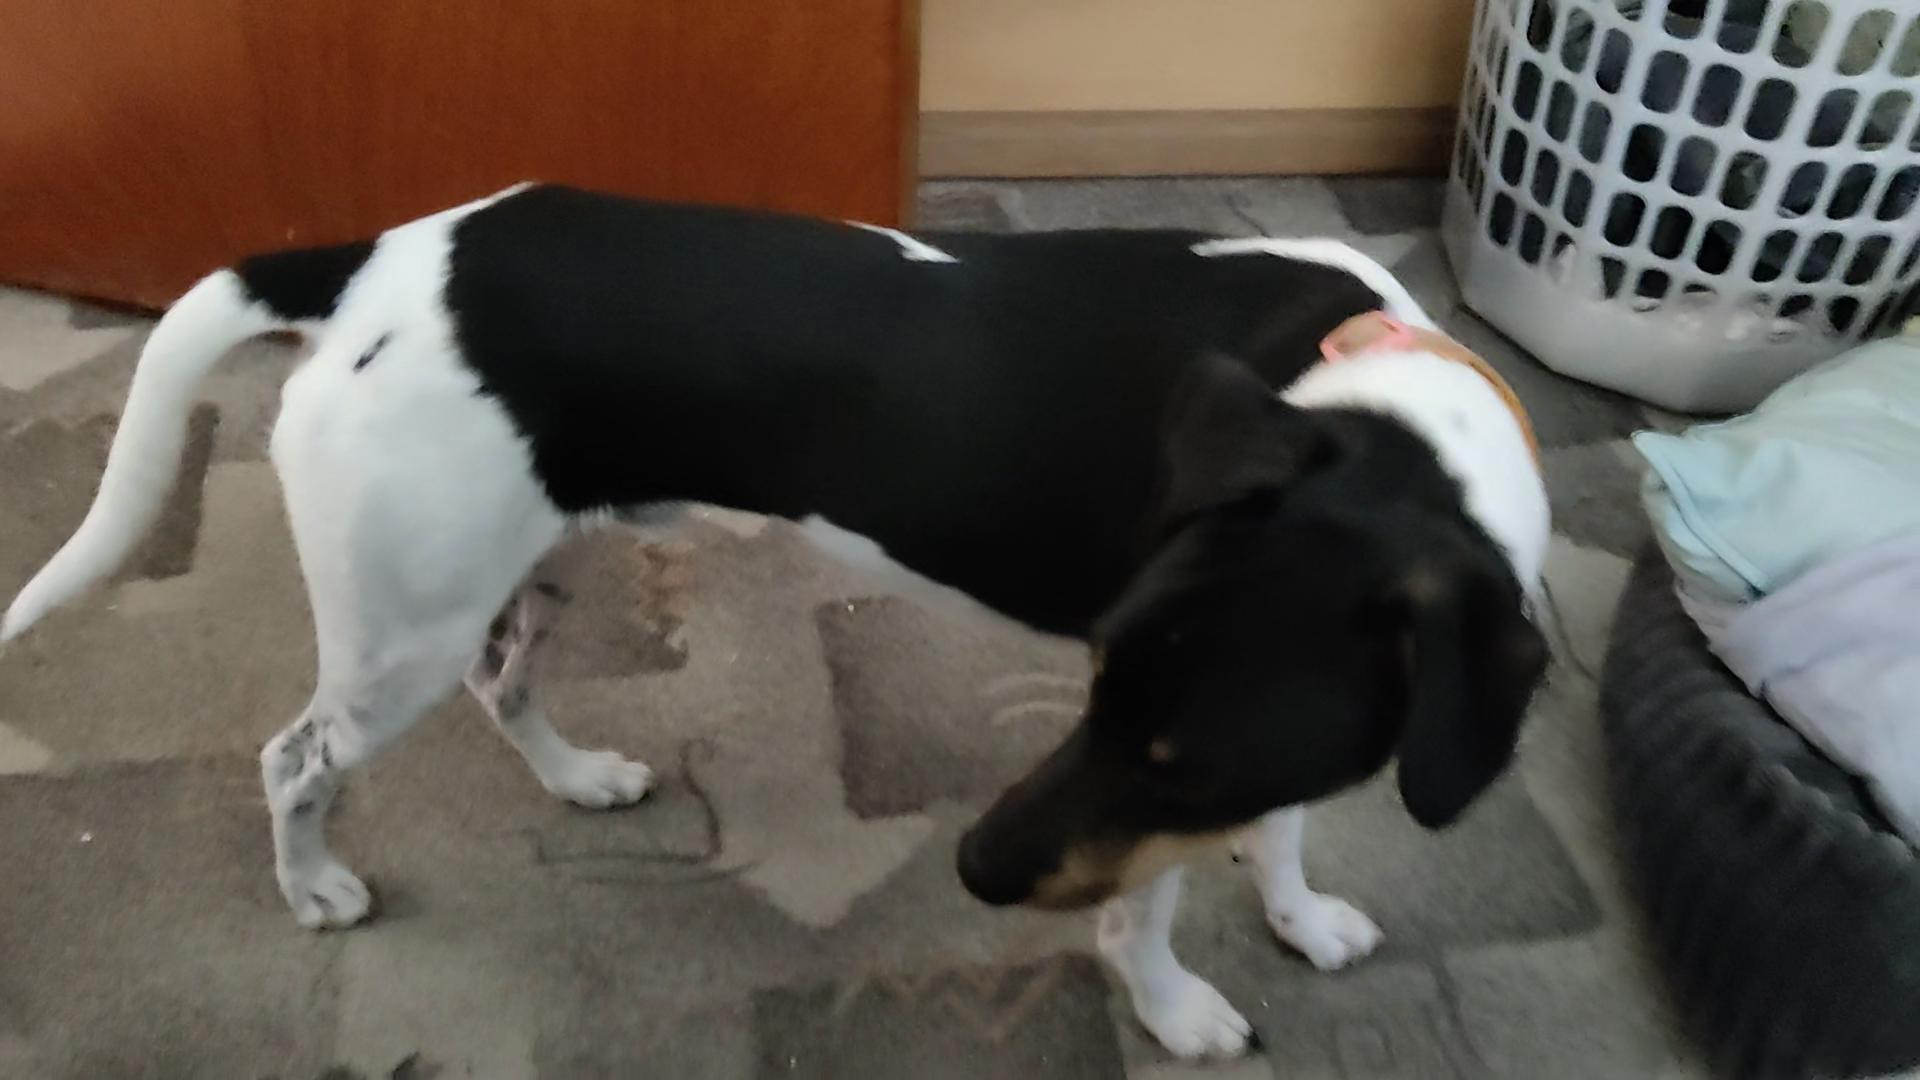Dog: (0, 173, 1571, 1079)
